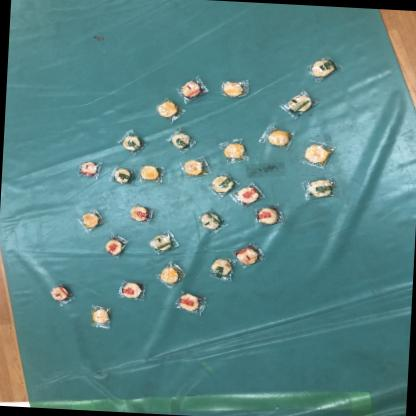green_setoshio: (280, 89, 316, 119), (300, 176, 336, 203), (306, 55, 340, 83), (115, 130, 146, 155), (206, 172, 237, 196), (167, 129, 197, 153), (148, 230, 176, 254), (207, 257, 234, 281), (198, 208, 224, 232), (108, 166, 134, 186)
red_setoshio: (233, 242, 264, 268), (254, 202, 284, 228), (229, 184, 262, 207), (176, 289, 206, 314), (177, 76, 205, 100), (102, 233, 128, 258), (48, 283, 74, 306), (128, 203, 154, 224), (118, 280, 144, 300), (76, 159, 102, 177)
yellow_setoshio: (300, 139, 338, 168), (216, 136, 246, 164), (154, 261, 186, 287), (153, 96, 184, 122), (259, 126, 294, 149), (219, 76, 251, 100), (180, 155, 210, 180), (78, 207, 104, 232), (138, 162, 166, 184), (88, 304, 112, 328)
